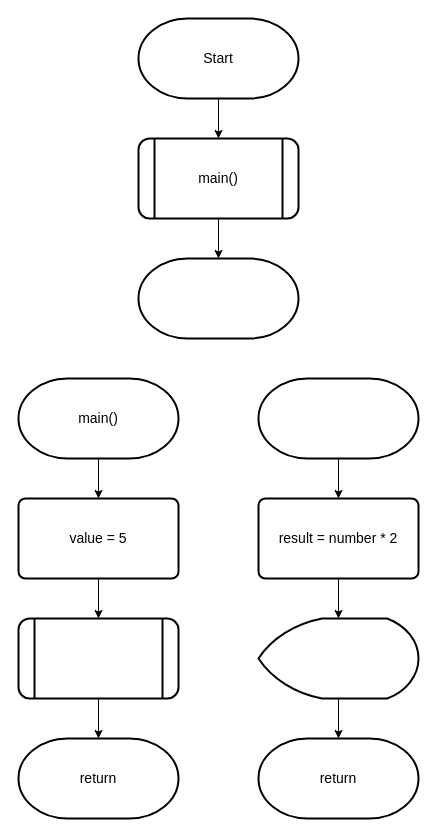
This 436x836 diagram has some shape labels left out. Each missing label, with the centre of its shape:
End: (218,298)
result: (338,658)
show_double (value): (98,658)
show_double(number): (338,418)
